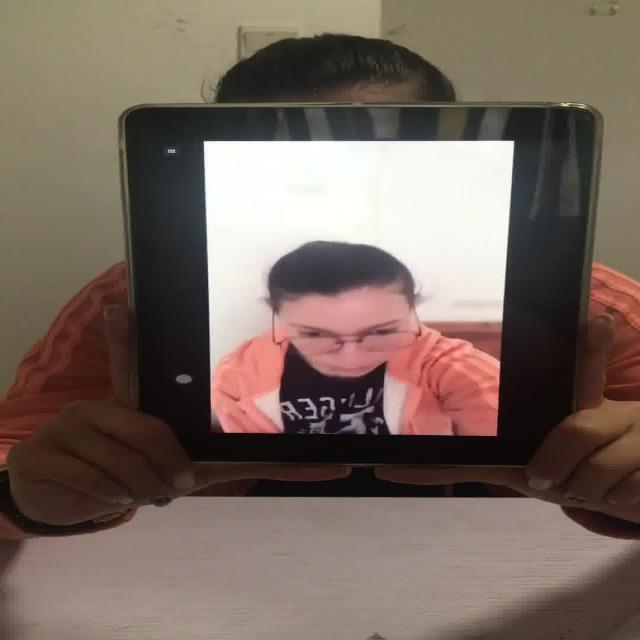device: (118, 97, 608, 484)
